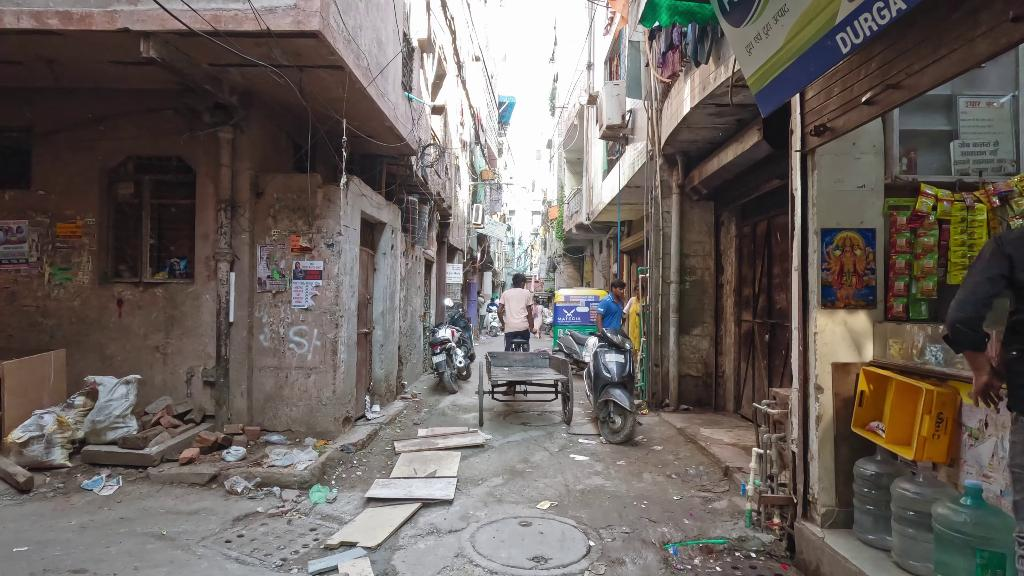garbage: (79, 368, 143, 439), (7, 408, 82, 468), (260, 424, 319, 469), (223, 473, 277, 504), (217, 441, 247, 467), (364, 395, 387, 422), (311, 483, 336, 506), (580, 431, 602, 452), (537, 492, 554, 513), (569, 447, 583, 467)
